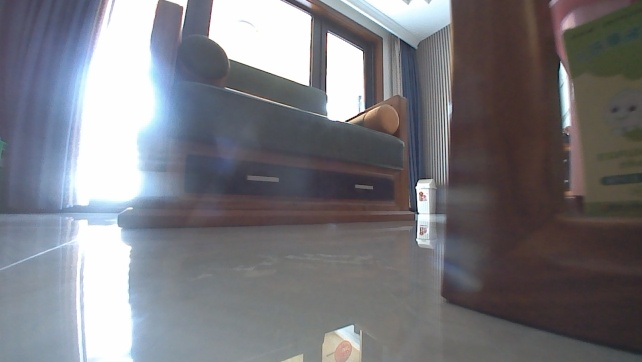sofa: (114, 0, 421, 231)
